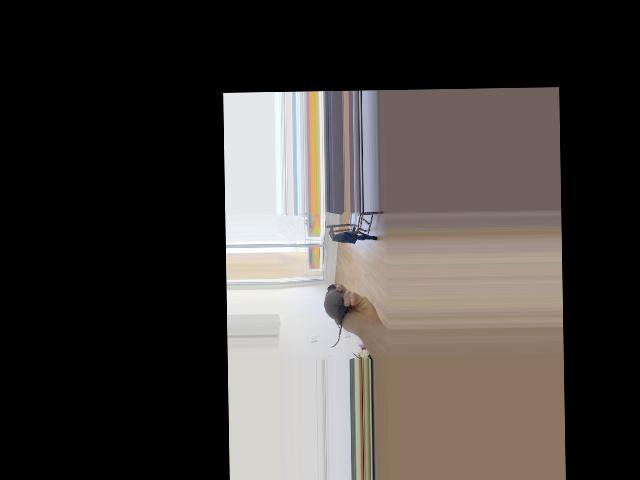beet: (324, 282, 346, 347)
